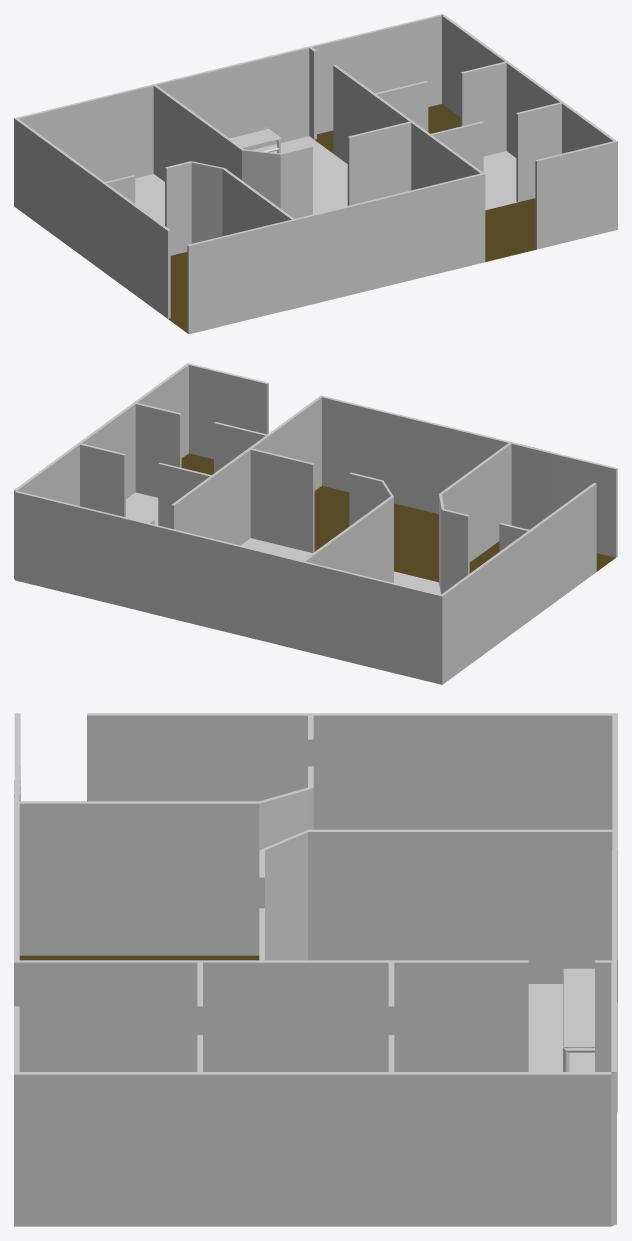
The model's file is showroom.gltf.
3 renders of one model, top to bottom at view 1: azimuth 30°, elevation 25°; view 2: azimuth 150°, elevation 25°; view 3: azimuth 270°, elevation 25°, orthographic. The views are drawn at different scales.
Parts seen in each view (by area): view 1: Plane, 3d-model 2; view 2: Plane; view 3: Plane, 3d-model 2.
Boxes of the visible parts, x1,y1,x2,y2 form: Plane: [14, 14, 617, 334]; 3d-model 2: [230, 127, 281, 153]; Plane: [14, 363, 617, 684]; Plane: [14, 713, 617, 1226]; 3d-model 2: [563, 968, 594, 1071].
Bounding box in the file's own units: 341 × 67.27 × 241.
